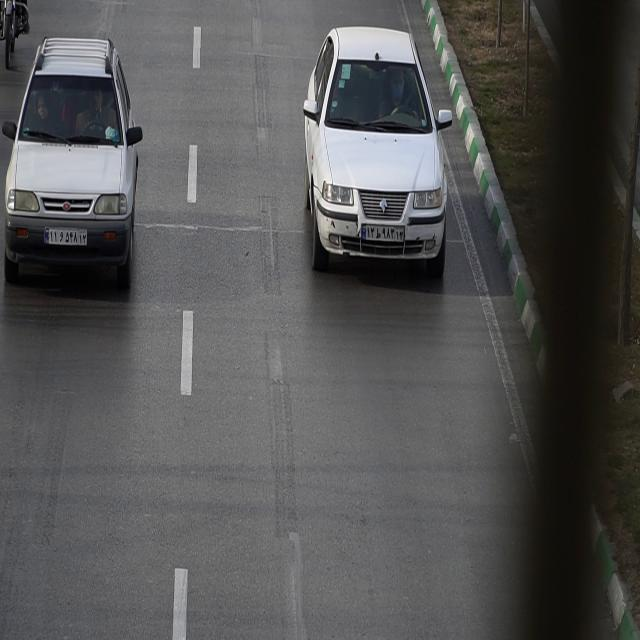car: (301, 26, 451, 273), (0, 43, 142, 285)
